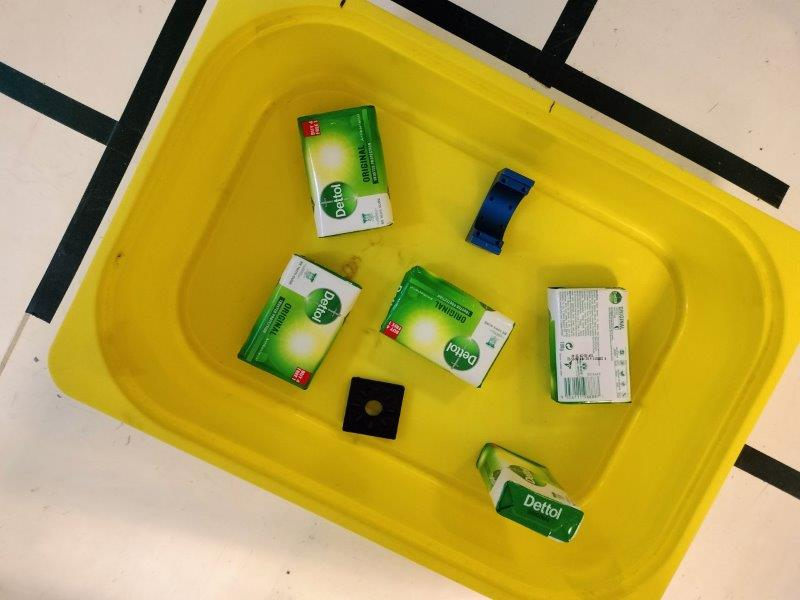Dettol: (380, 266, 515, 390), (240, 254, 360, 391), (299, 106, 395, 237), (475, 443, 587, 545), (546, 287, 632, 406)
